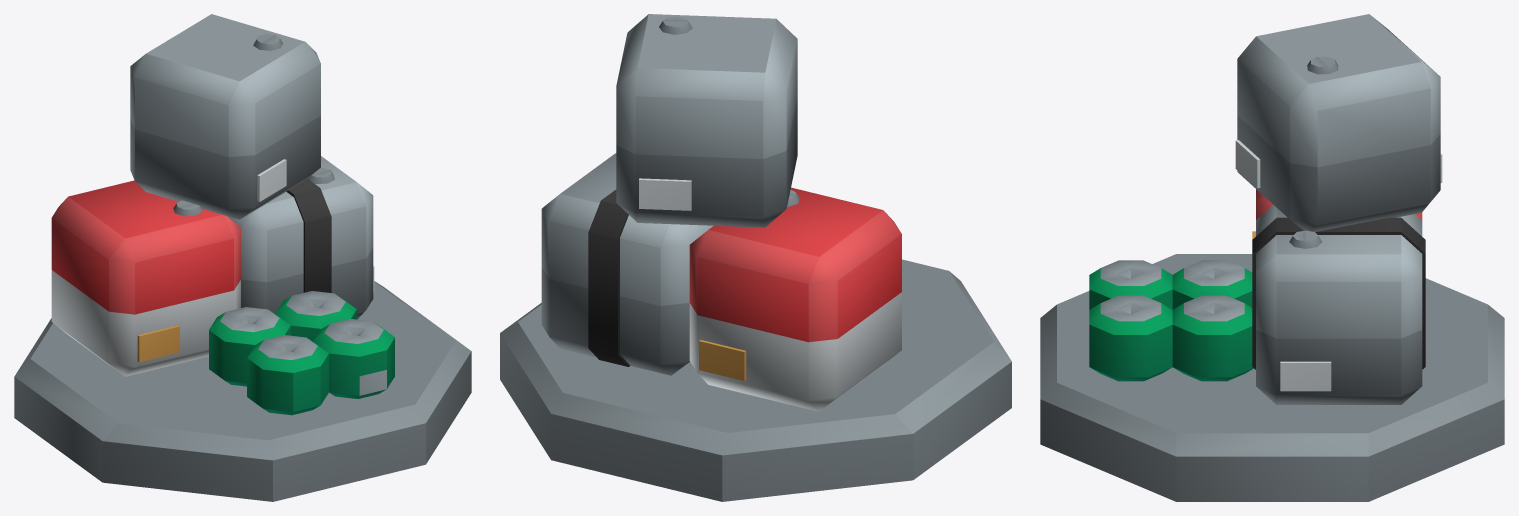
File: kaykit_roofmodule_cargo_b_v01.glb
The picture shows the model from 3 angles, left to right: view 1: azimuth 30°, elevation 25°; view 2: azimuth 150°, elevation 25°; view 3: azimuth 270°, elevation 25°; orthographic projection. The views are drawn at different scales.
Visible parts, largest first — view 1: roofmodule_cargo_B; view 2: roofmodule_cargo_B; view 3: roofmodule_cargo_B.
Part boxes in pixels (<box>): roofmodule_cargo_B: <box>14,14,471,501</box>; roofmodule_cargo_B: <box>500,14,1011,501</box>; roofmodule_cargo_B: <box>1040,14,1504,501</box>.
Size of the model in its own units: 1.4 by 1.22 by 1.4.
Materials: 1 (1 with a texture image).
